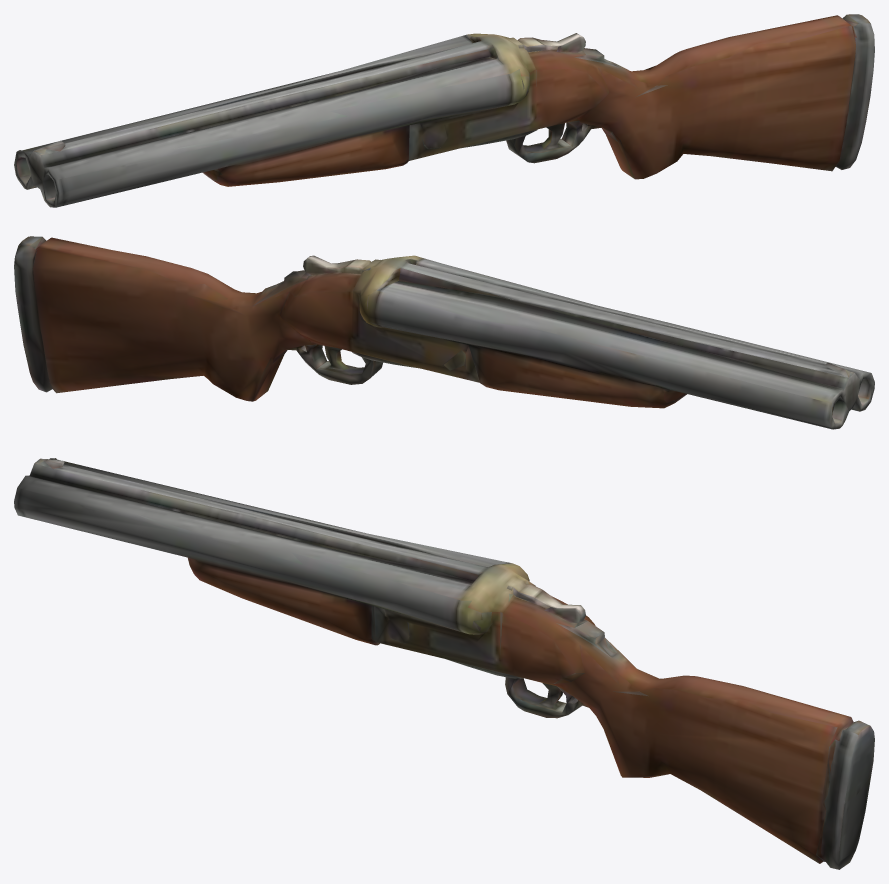
The model's file is shotgun.glb.
3 views of the same model, one above another, from view 1: azimuth 30°, elevation 25°; view 2: azimuth 150°, elevation 25°; view 3: azimuth 330°, elevation 25° (orthographic).
Parts seen in each view (by area): view 1: Mesh1.0; view 2: Mesh1.0; view 3: Mesh1.0.
Part boxes in pixels (left/top/right/bottom): Mesh1.0: left=14, top=14, right=874, bottom=207; Mesh1.0: left=14, top=236, right=874, bottom=429; Mesh1.0: left=14, top=458, right=874, bottom=869.
Bounding box in the file's own units: 1.91 × 0.4711 × 0.2272.
1 material, 1 textured.
